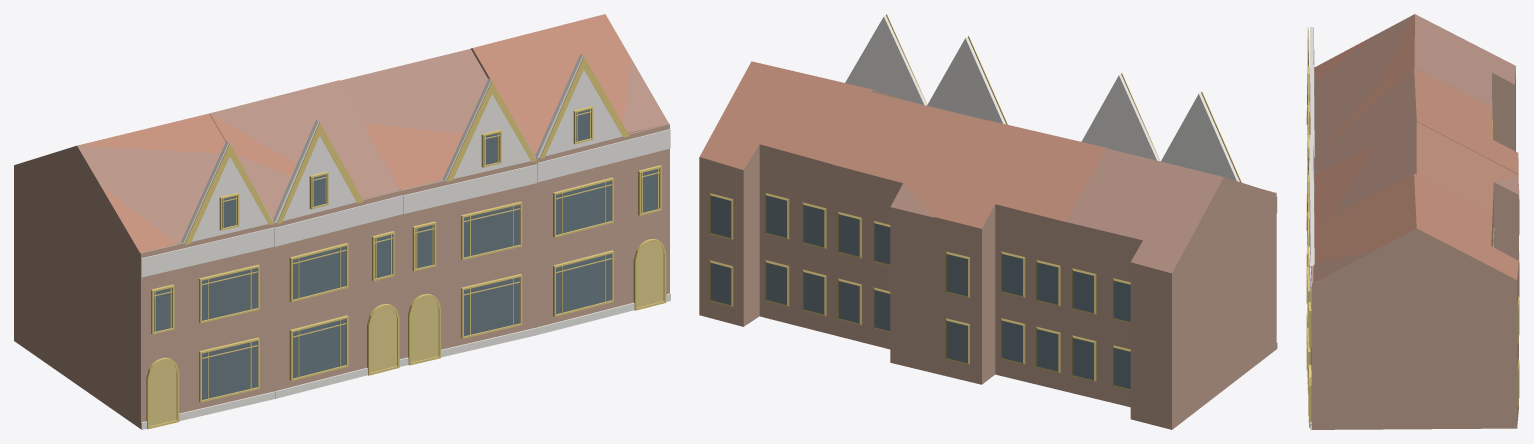
Rendered from chunk-face-zaanhof-71-78.glb.
The picture shows the model from 3 angles, left to right: view 1: azimuth 30°, elevation 25°; view 2: azimuth 150°, elevation 25°; view 3: azimuth 270°, elevation 25°; orthographic projection. The views are drawn at different scales.
Visible parts, largest first — view 1: face-zaanhof-71-78; view 2: face-zaanhof-71-78; view 3: face-zaanhof-71-78.
Part boxes in pixels (<box>): face-zaanhof-71-78: <box>14,14,670,429</box>; face-zaanhof-71-78: <box>699,14,1277,429</box>; face-zaanhof-71-78: <box>1306,14,1519,429</box>.
Size of the model in its own units: 23.96 by 11.46 by 9.92.
